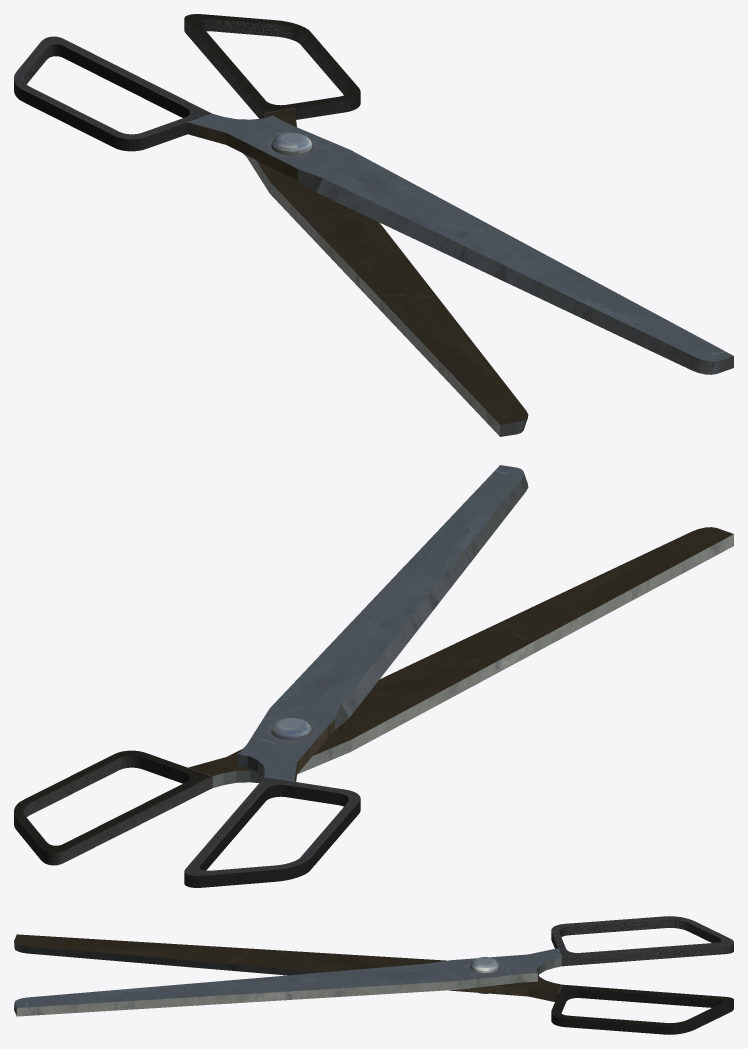
File: scissors.gltf
3 views of the same model, one above another, from view 1: azimuth 30°, elevation 25°; view 2: azimuth 150°, elevation 25°; view 3: azimuth 270°, elevation 25° (orthographic). The views are drawn at different scales.
Parts seen in each view (by area): view 1: hasami; view 2: hasami; view 3: hasami.
Boxes of the visible parts, left/top/right/bottom form: hasami: left=14, top=14, right=733, bottom=436; hasami: left=14, top=465, right=733, bottom=887; hasami: left=14, top=916, right=733, bottom=1034.
Size of the model in its own units: 7.53 by 1 by 22.59.
Materials: 1 (1 with a texture image).
